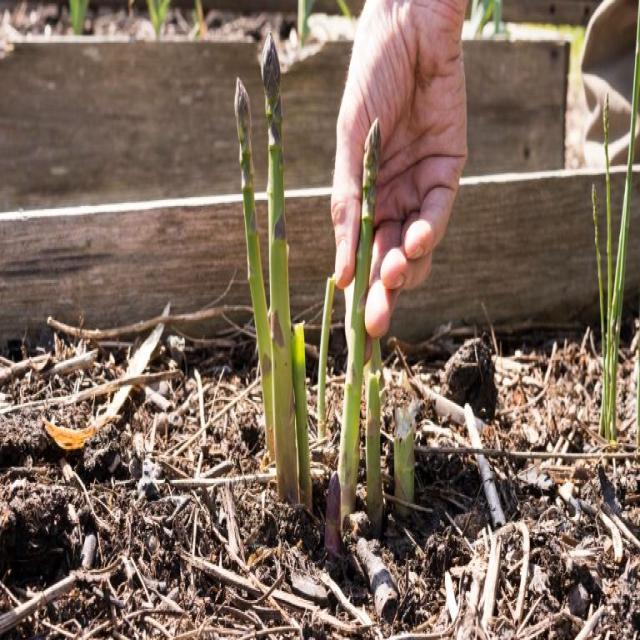aspargus: (333, 115, 383, 519), (263, 35, 301, 504), (232, 77, 276, 459)
